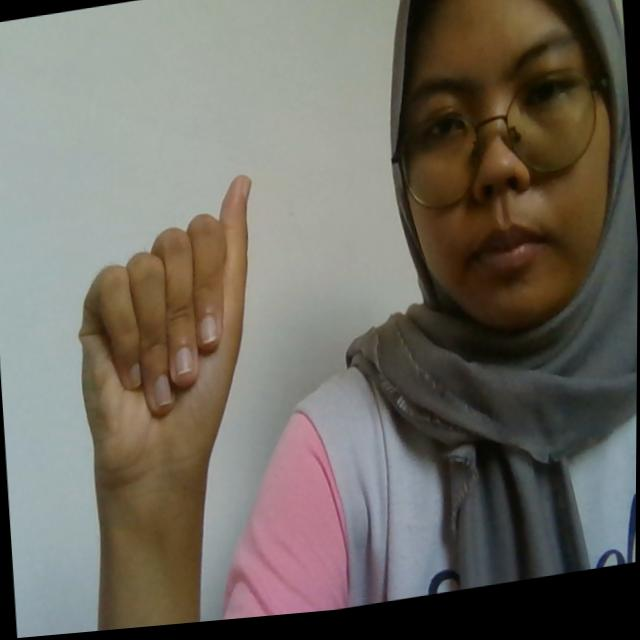A: (67, 173, 271, 475)
